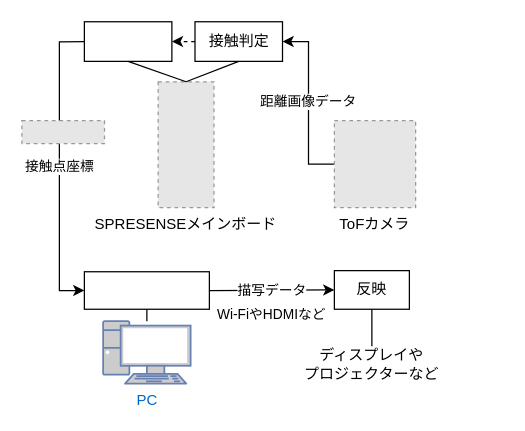
The diagram is 525 pixels wide and 431 high, and some of its shapes have lost their labels. Grey dashed boxes stand in for pictures. The shapes that lost their labels are listed below. From the top down, each one's box as (x1, y1, x2, y2) in pixels, then its label:
(83, 20, 172, 61): 接触点推定
(83, 270, 209, 309): 接触点から 描写を再現
